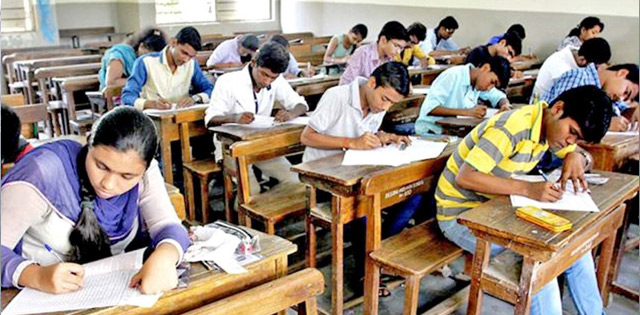student: (11, 109, 190, 306), (445, 94, 628, 234), (291, 68, 423, 168), (206, 42, 299, 137), (137, 17, 216, 112), (338, 27, 417, 73), (427, 17, 473, 48)
studentsleep: (419, 60, 527, 120)
